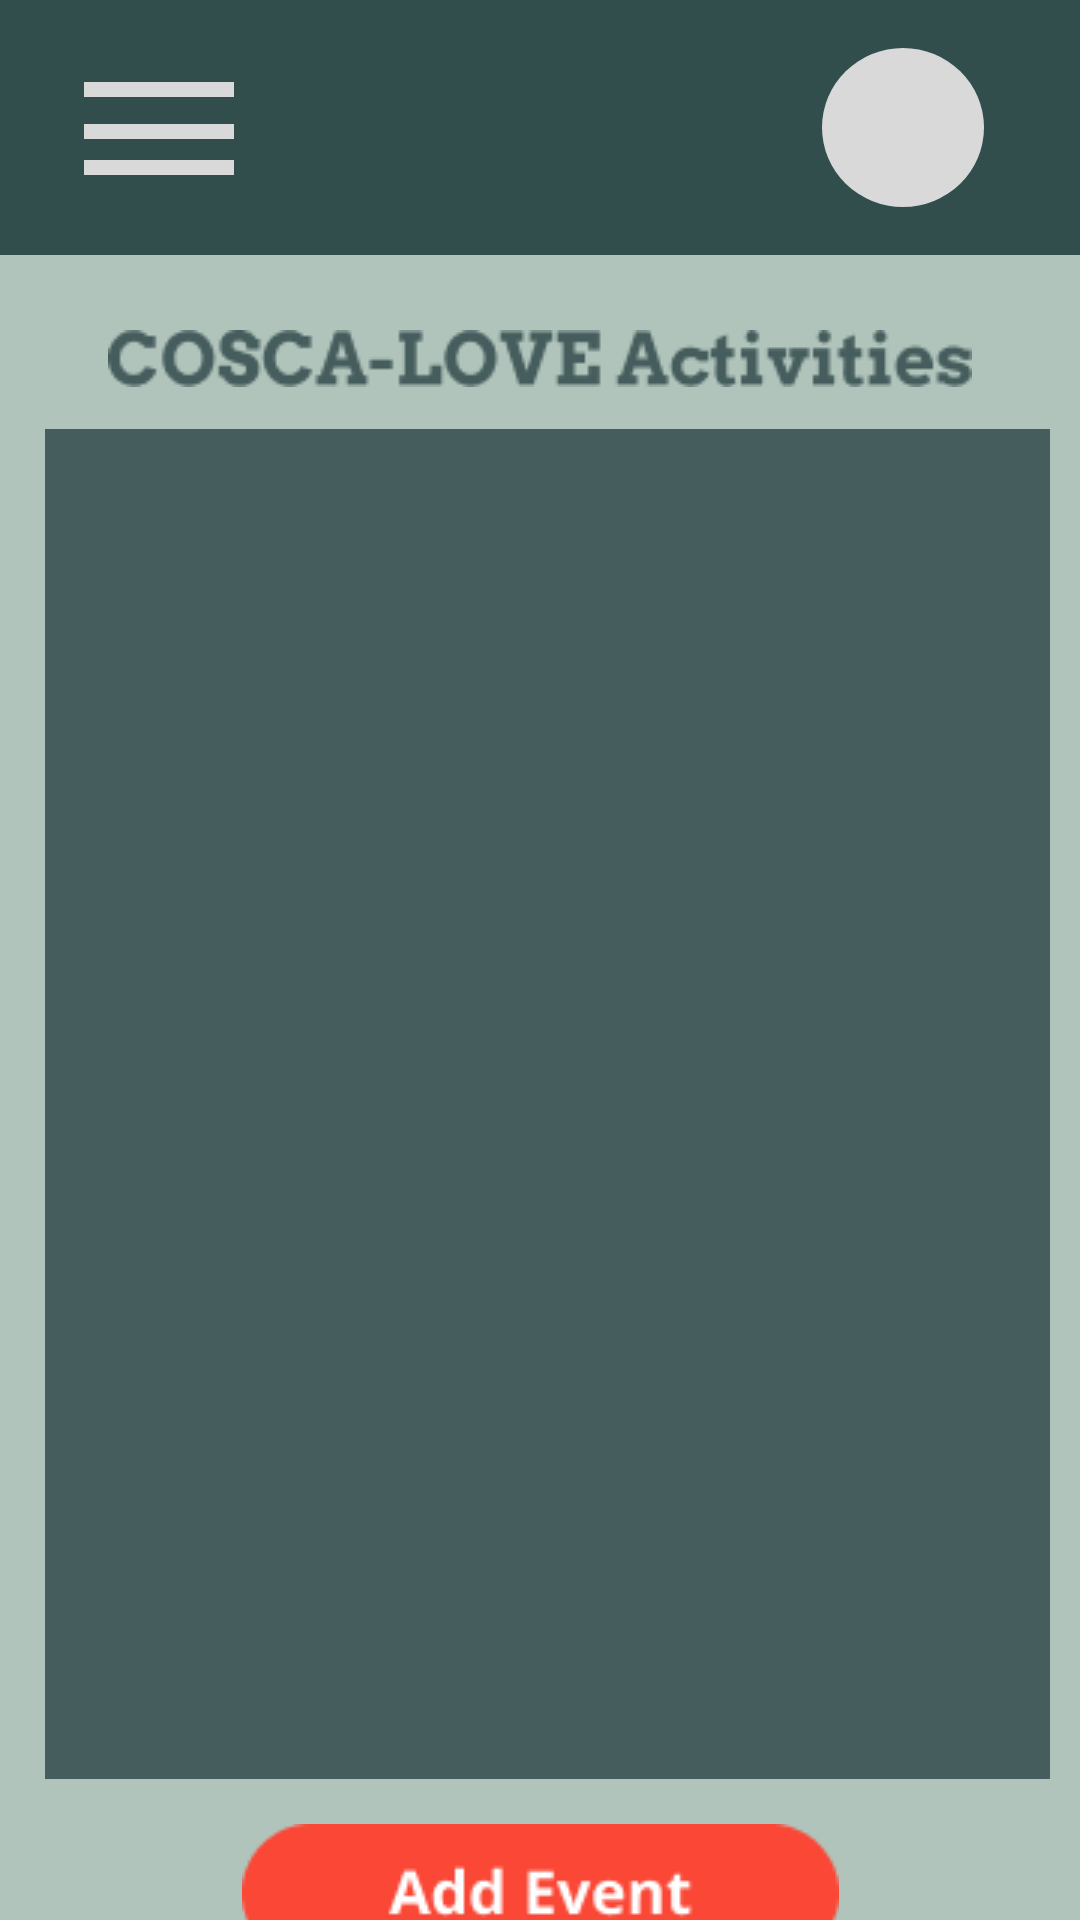

Icons on this 1080px x 1920px Android screen, each with its box as BBox(x1, y1, x2, y2):
menubtn: BBox(84, 82, 234, 175)
